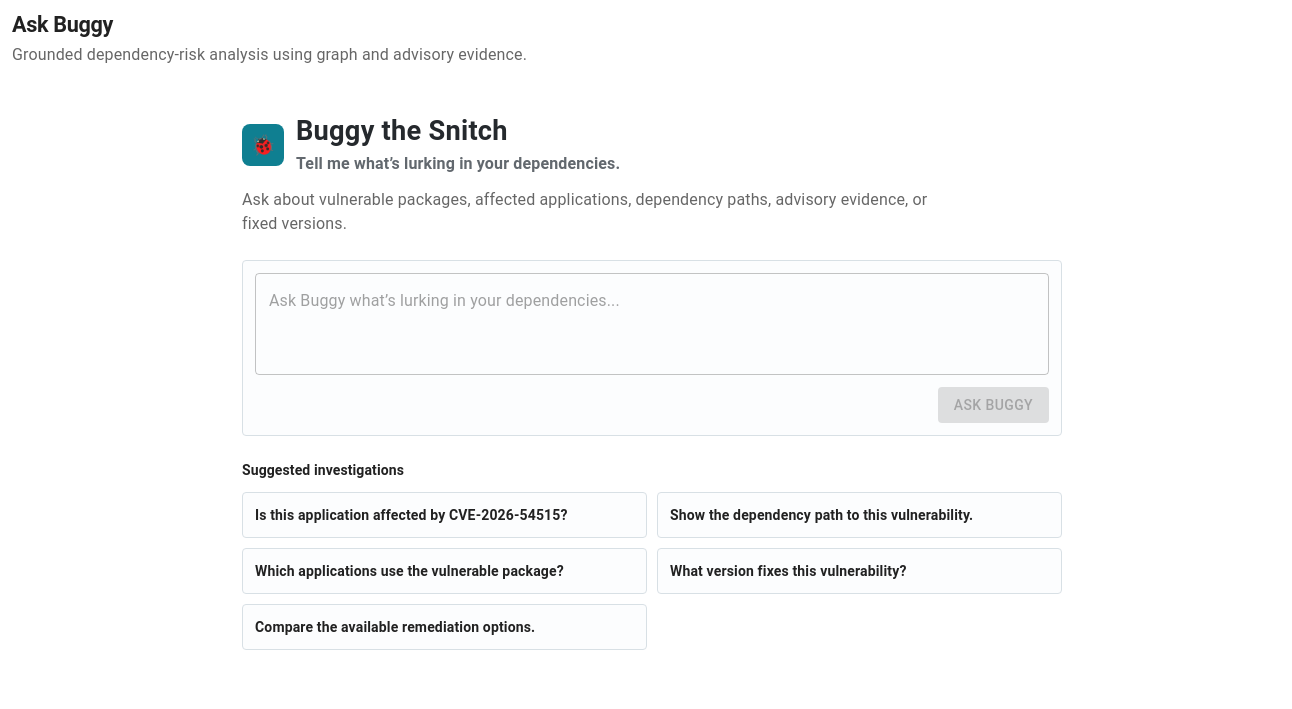
Scenario: AssistantView › asks Buggy and displays the returned answer
Type "Which version fixes CVE-2026-54515?" into the text box named "Dependency risk investigation prompt" at (652, 324), box 269,289 -> 1035,358
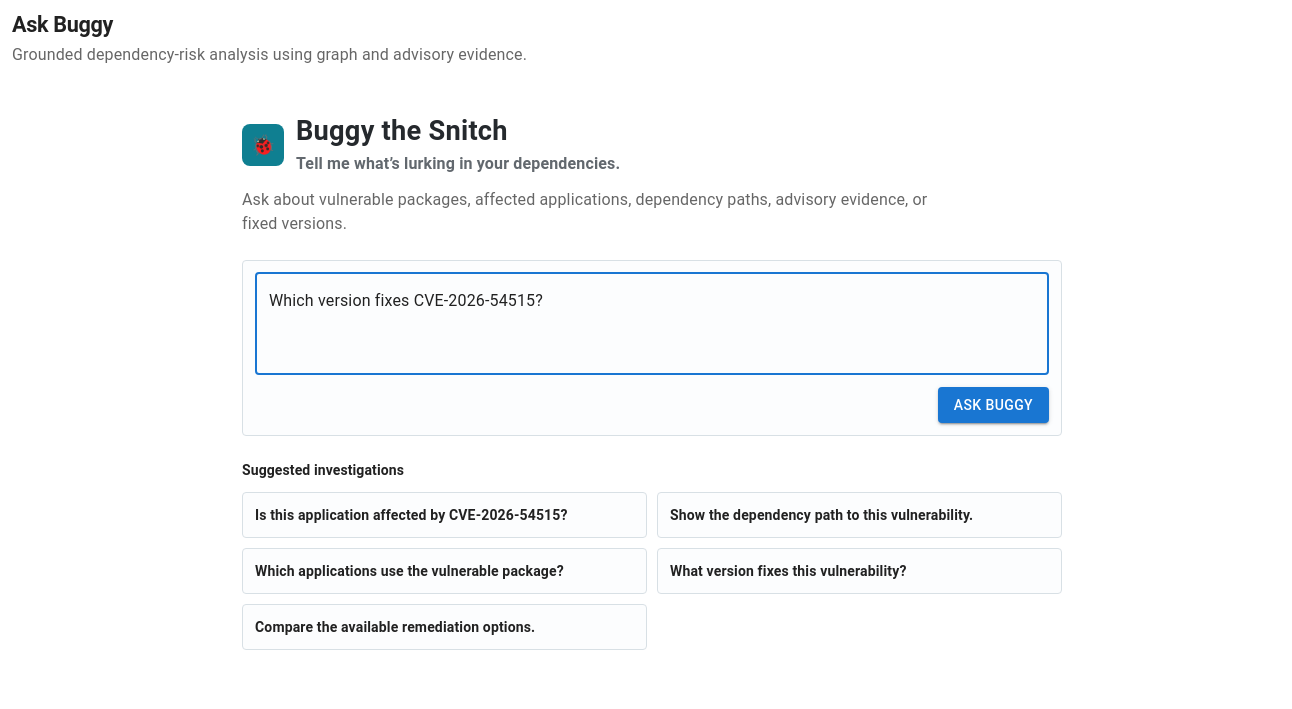
Click the button "Ask Buggy" at (993, 405), box 938,386 -> 1049,423
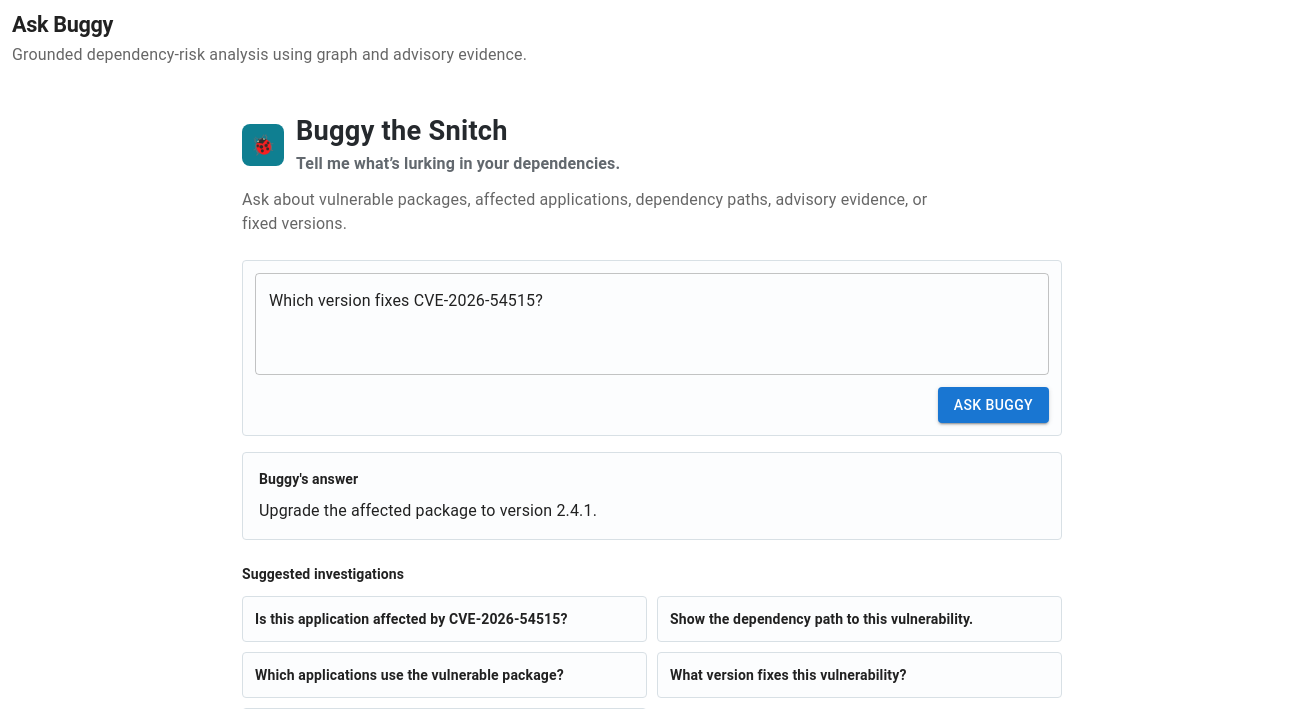
expect the heading "Buggy's answer" is shown: met, box 259,471 -> 358,487
expect the text "Upgrade the affected package to version 2.4.1." is shown: met, box 259,501 -> 597,520
